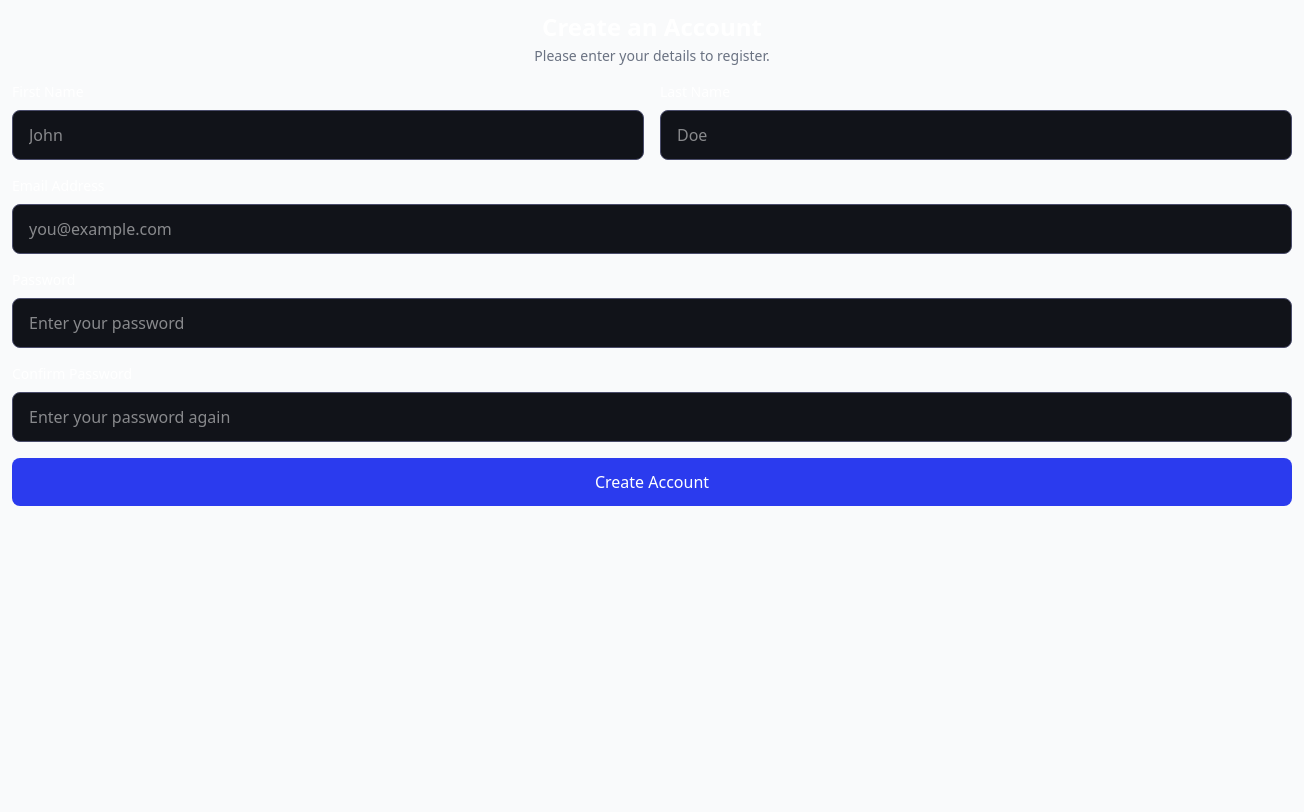
Test case: RegisterForm - Integration Tests › should validate lastName minimum length
Type "D" into the field labelled "Last Name" at (976, 135), box [660,110,1292,160]
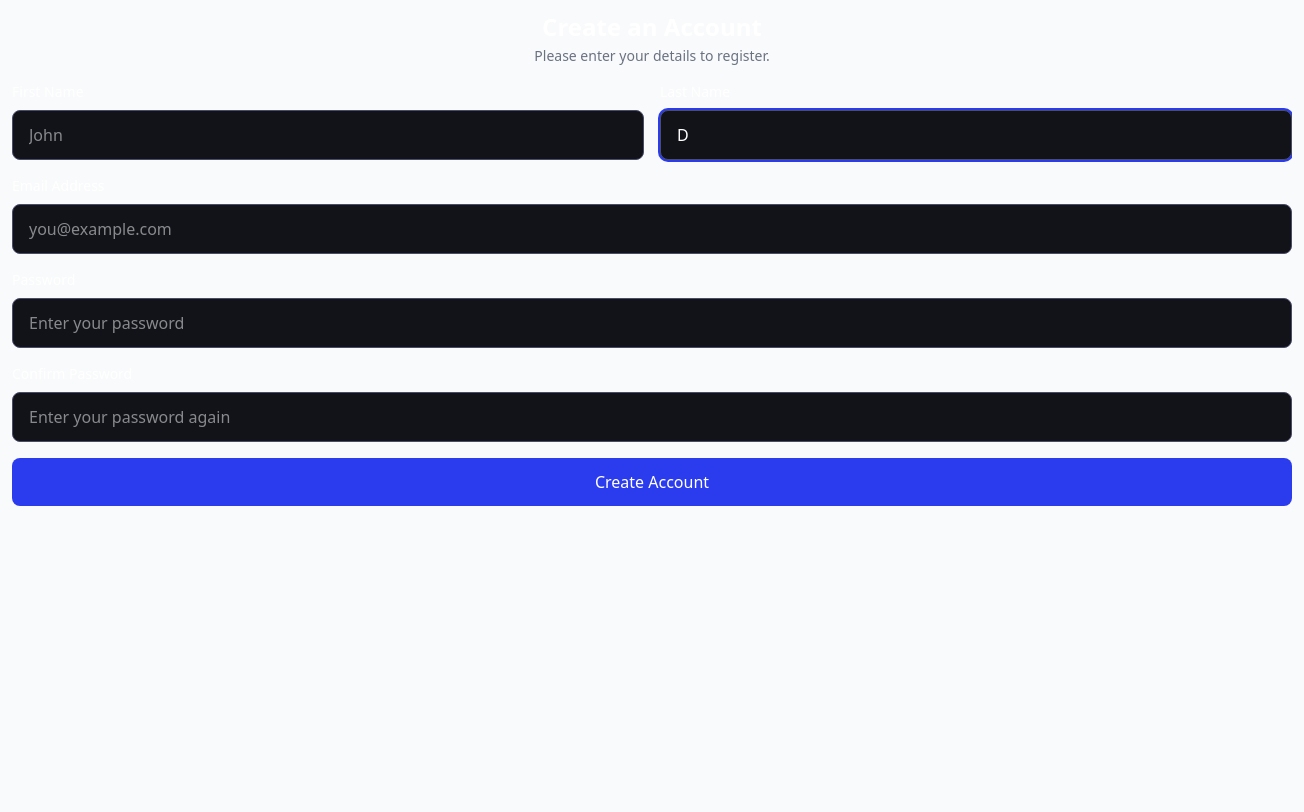
Click the button "Create Account" at (652, 482), box [12,458,1292,506]
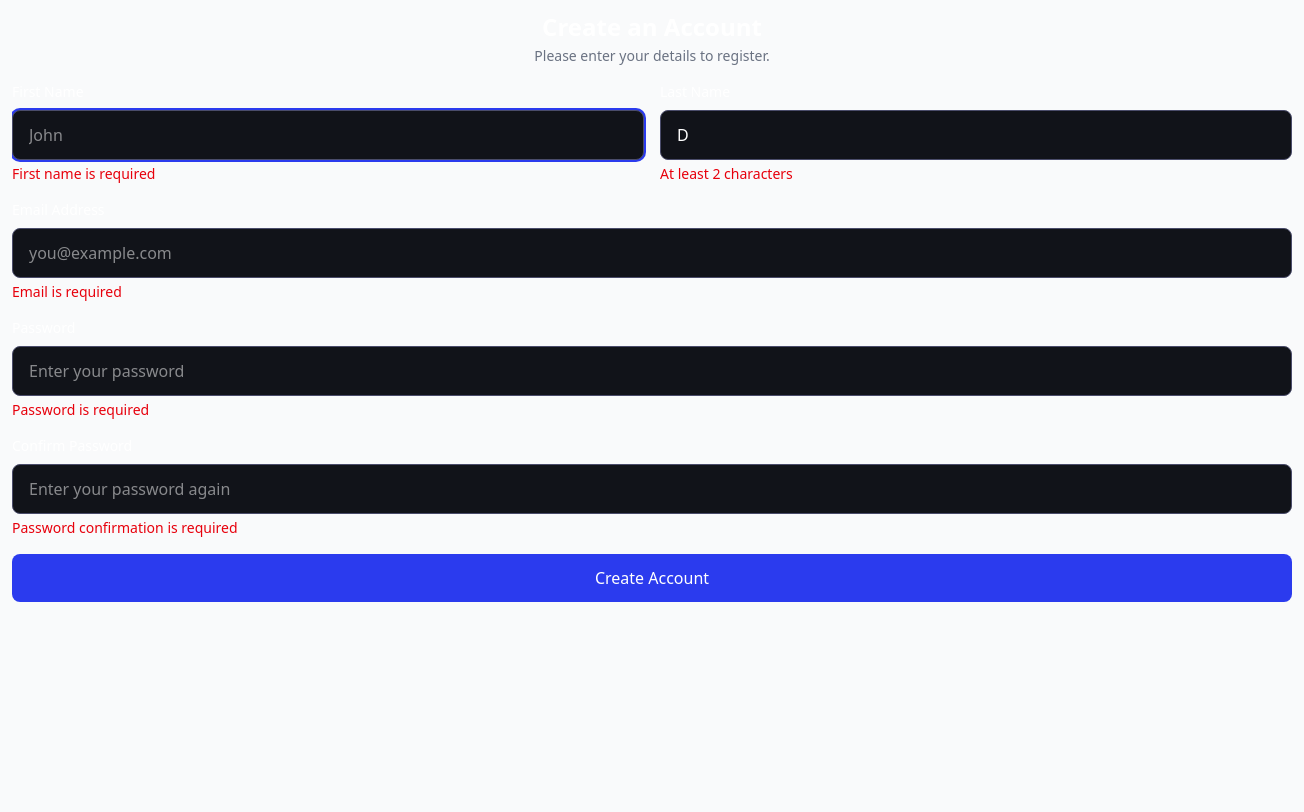
Expected: the text "At least 2 characters" is shown, [660,164,793,183]
